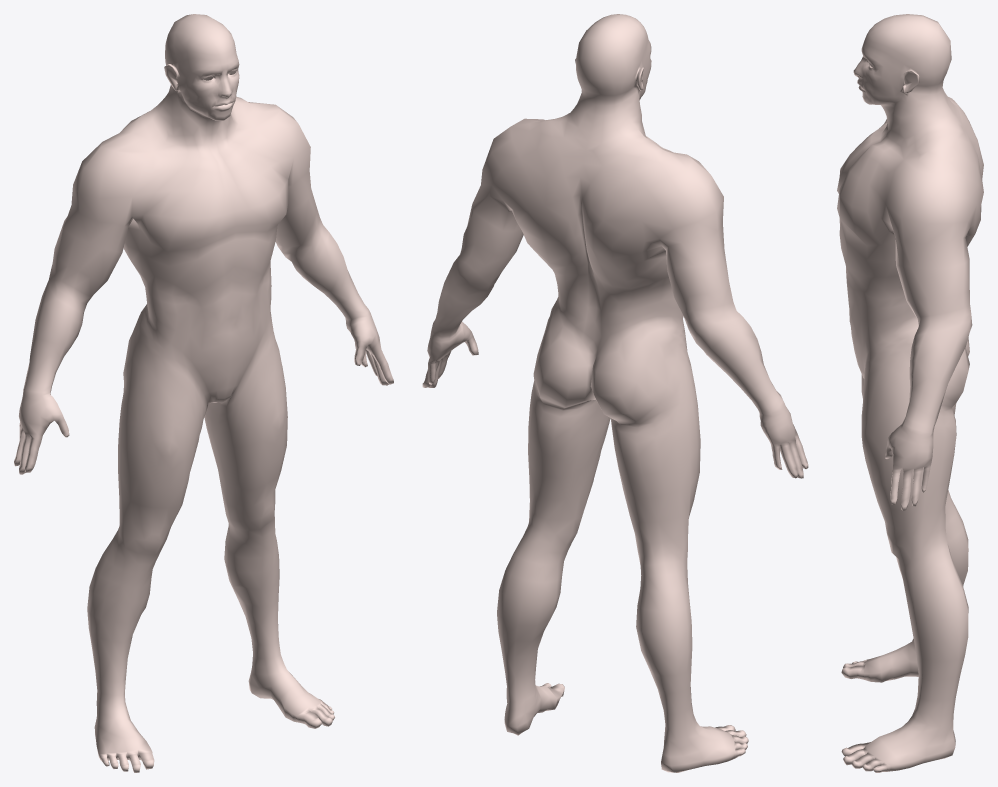
Rendered from asset.gltf.
The picture shows the model from 3 angles, left to right: view 1: azimuth 30°, elevation 25°; view 2: azimuth 150°, elevation 25°; view 3: azimuth 270°, elevation 25°; orthographic projection. The views are drawn at different scales.
Parts seen in each view (by area): view 1: ZBrush_defualt_group; view 2: ZBrush_defualt_group; view 3: ZBrush_defualt_group.
Part boxes in pixels (<box>): ZBrush_defualt_group: <box>14,14,393,772</box>; ZBrush_defualt_group: <box>422,14,808,772</box>; ZBrush_defualt_group: <box>837,14,983,772</box>.
Bounding box in the file's own units: 0.9811 × 1.8 × 0.3411.
